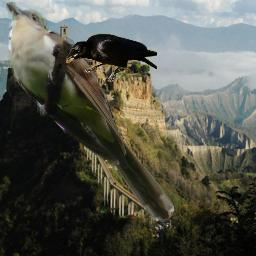Crow: (65, 33, 157, 82)
Cuckoo: (6, 2, 174, 221)
